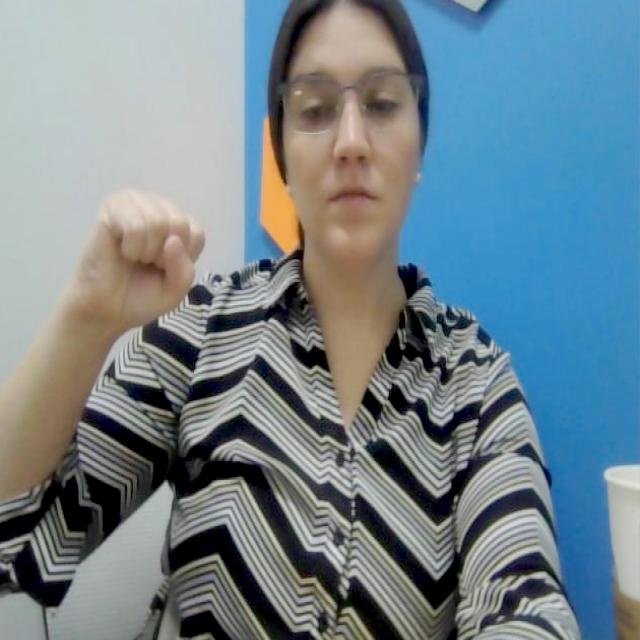Rock: (78, 185, 212, 318)
